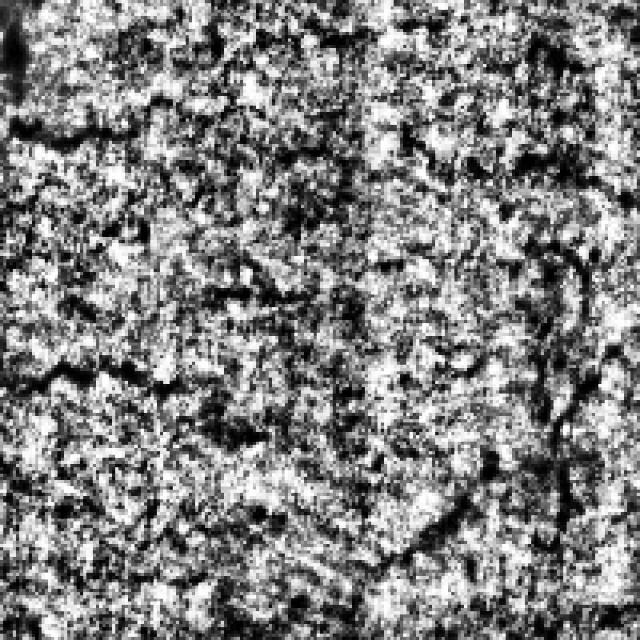Pitted_Surface: (300, 0, 611, 630), (3, 0, 627, 205), (0, 90, 275, 403)
